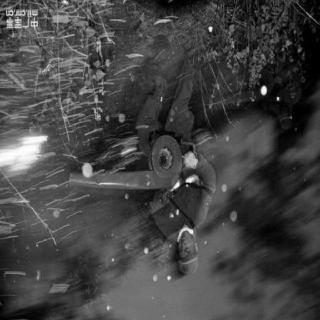other: (144, 134, 184, 194)
